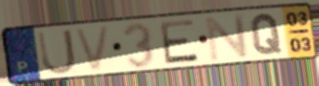3: (122, 19, 158, 71)
E: (158, 17, 201, 66)
N: (204, 12, 251, 63)
Q: (249, 12, 284, 56)
U: (35, 27, 78, 76)
V: (72, 24, 113, 74)
